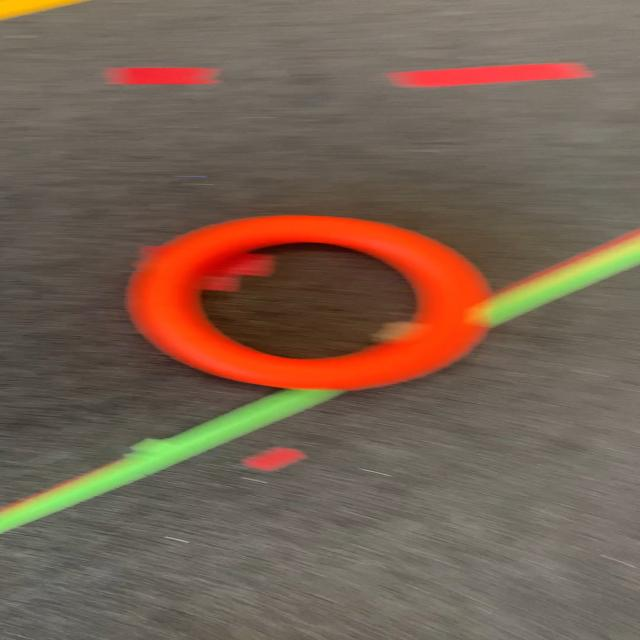notes: (128, 214, 488, 390)
